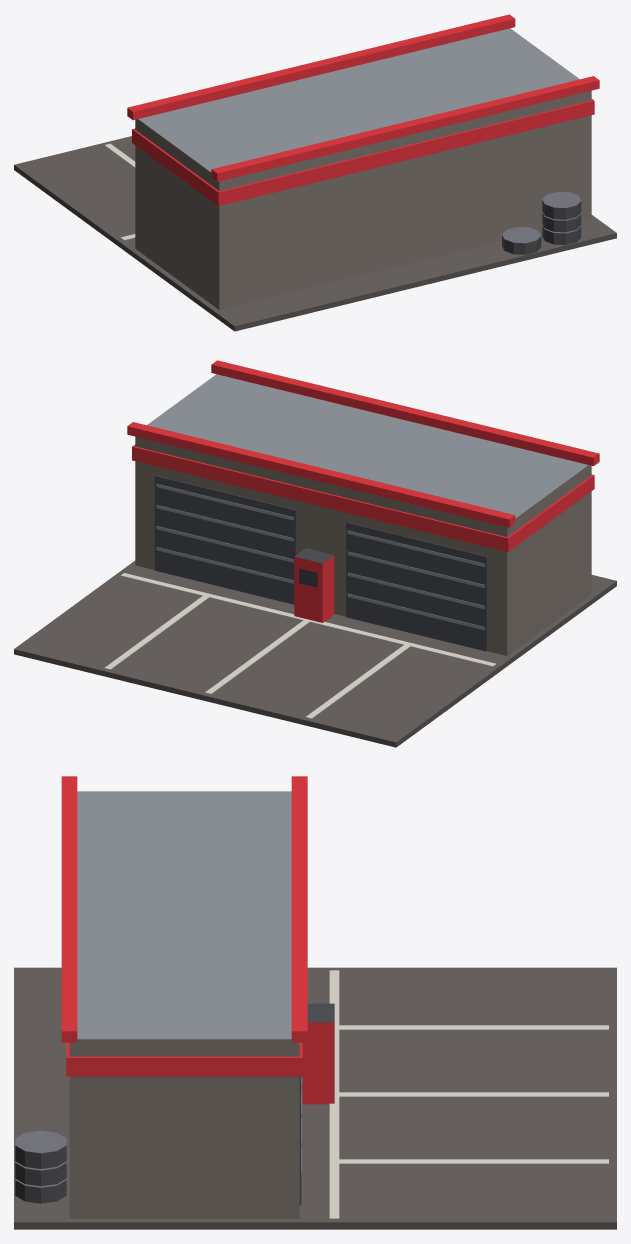
Rendered from depot.glb.
3 renders of one model, top to bottom at view 1: azimuth 30°, elevation 25°; view 2: azimuth 150°, elevation 25°; view 3: azimuth 270°, elevation 25°, orthographic. The views are drawn at different scales.
Visible parts, largest first — view 1: depot; view 2: depot; view 3: depot.
Boxes of the visible parts, x1,y1,x2,y2 form: depot: (14,14,616,331); depot: (14,360,616,747); depot: (14,776,616,1229).
Size of the model in its own units: 3.8 by 1.38 by 3.8.
